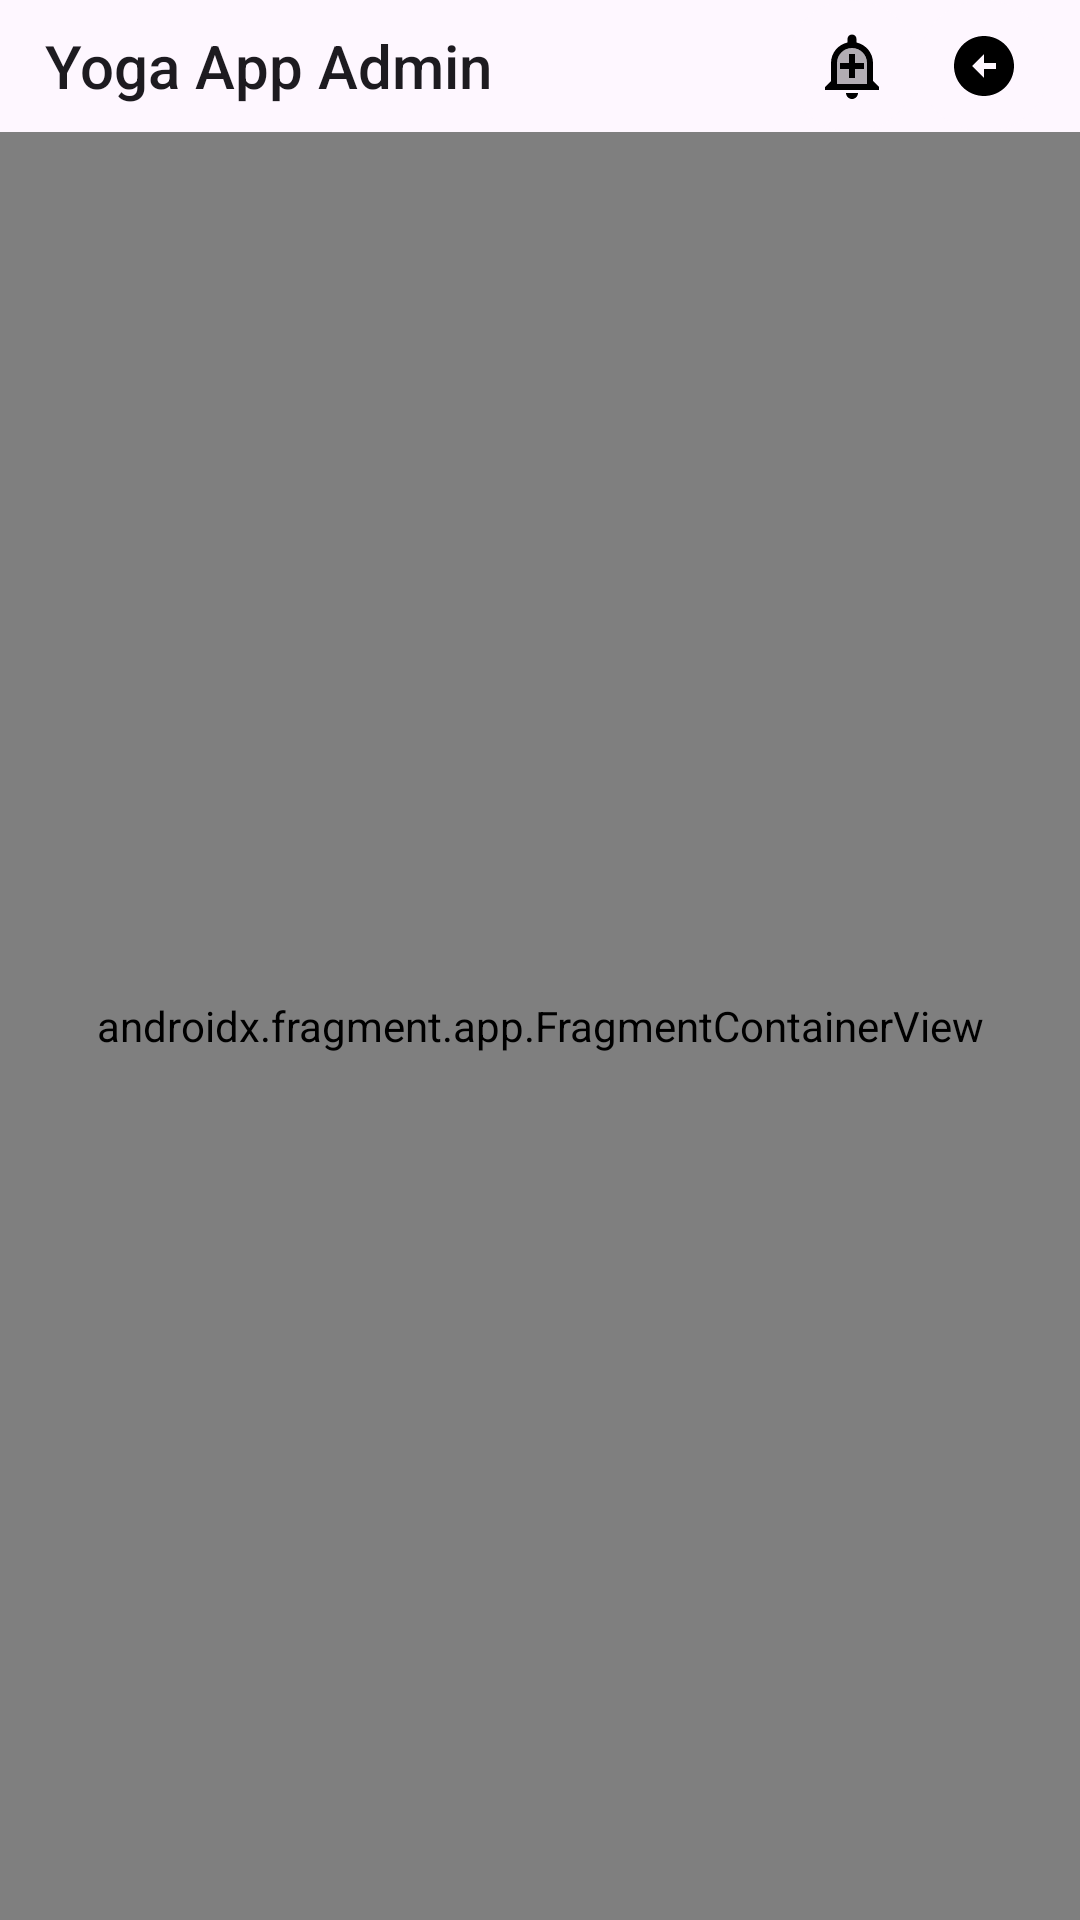

Icons on this 1080w x 1920h Android screen, each with its box as [left=x1, top=y1, right=x2, bottom=y2]:
add alert: [left=825, top=34, right=879, bottom=99]
arrow circle left: [left=954, top=36, right=1014, bottom=96]
